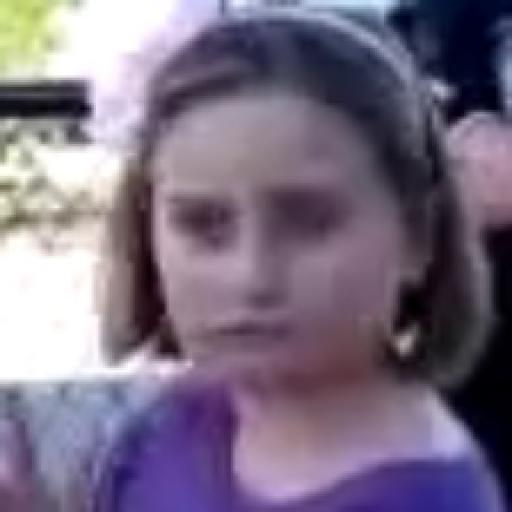Autism: (86, 17, 477, 428)
